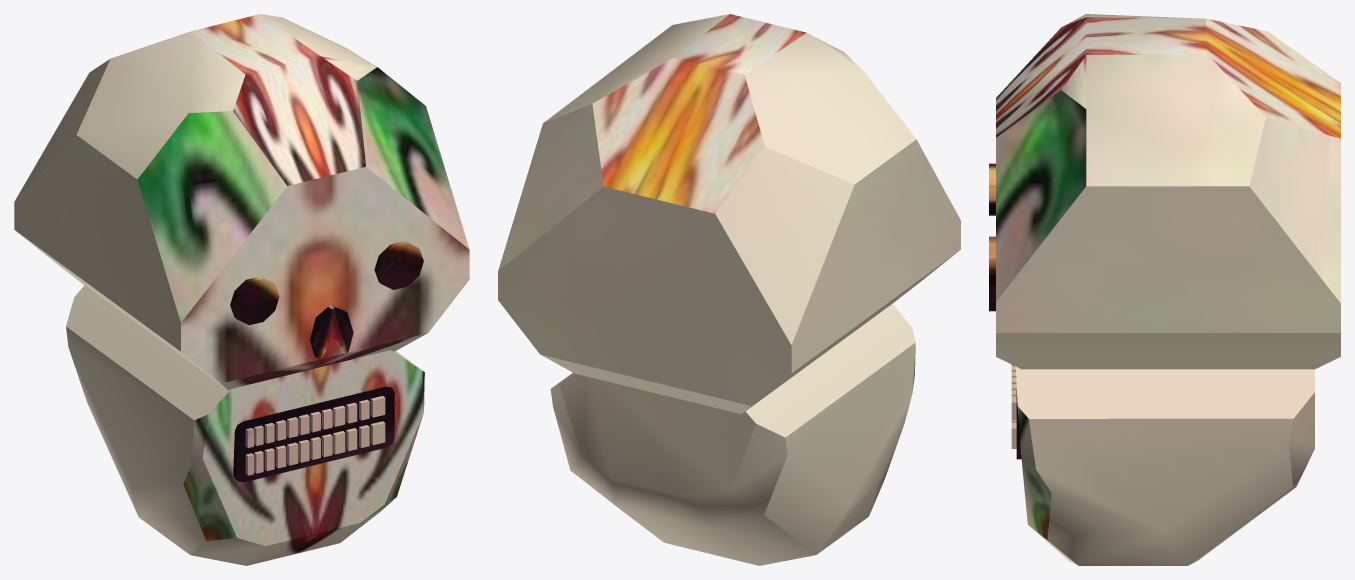
The model's file is artesania.obj.
The picture shows the model from 3 angles, left to right: view 1: azimuth 30°, elevation 25°; view 2: azimuth 150°, elevation 25°; view 3: azimuth 270°, elevation 25°; orthographic projection. The views are drawn at different scales.
Visible parts, largest first — view 1: Craneo; view 2: Craneo; view 3: Craneo.
Boxes of the visible parts, <box> form: Craneo: <box>14,14,469,565</box>; Craneo: <box>498,14,960,565</box>; Craneo: <box>989,14,1340,565</box>.
Bounding box in the file's own units: 0.2 × 0.32 × 0.204.
Materials: 1 (1 with a texture image).
